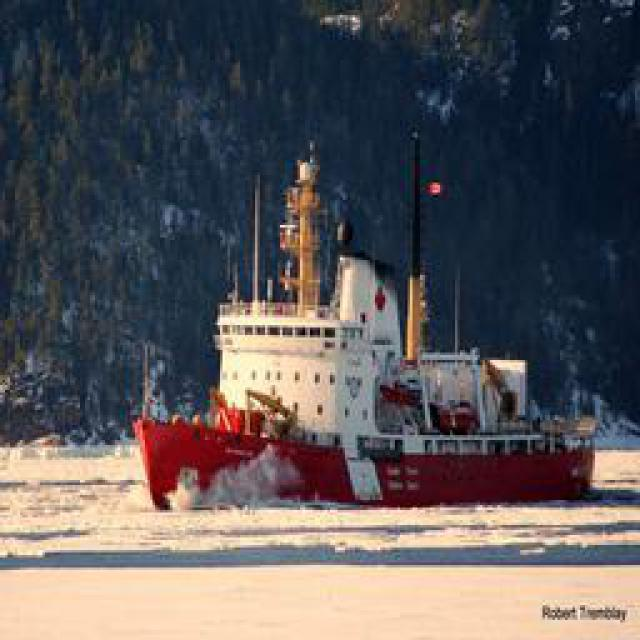Ship: (122, 255, 594, 509)
